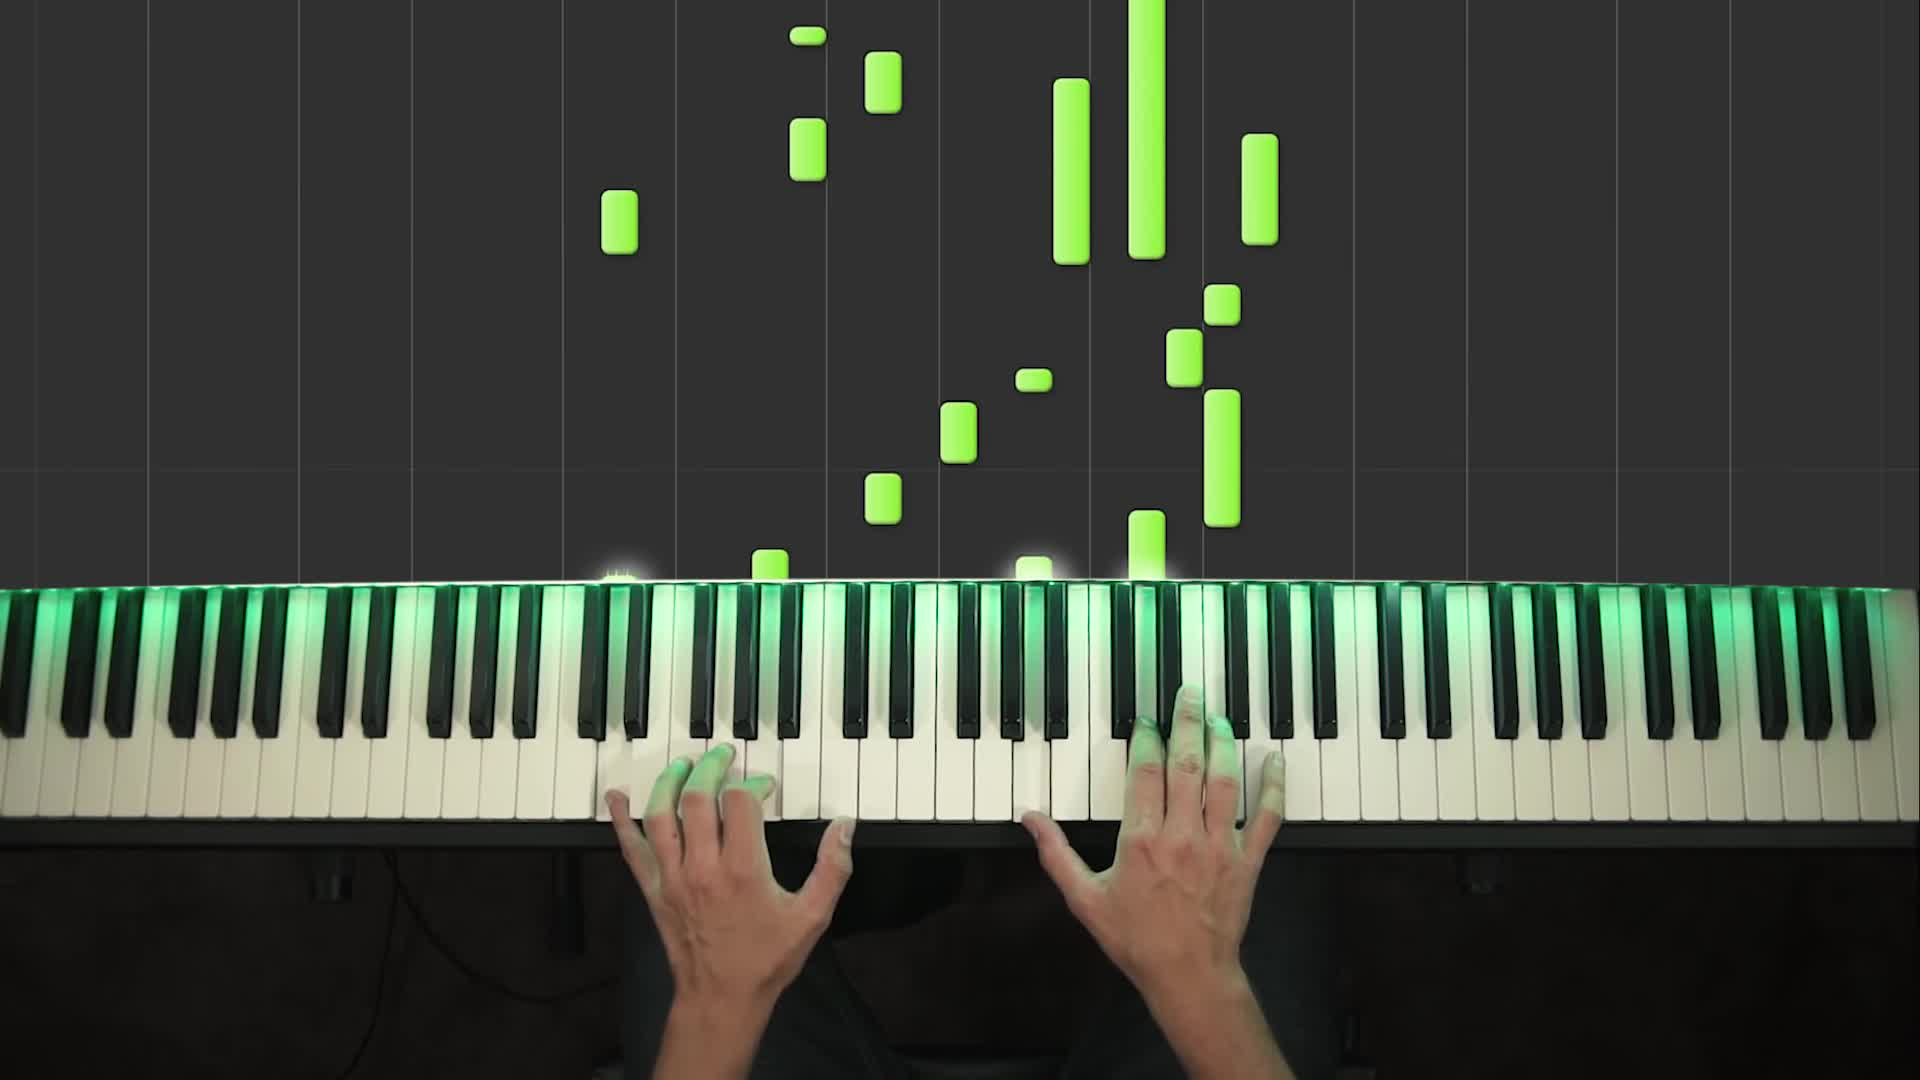left: (603, 740, 855, 990)
right: (1025, 684, 1290, 971)
